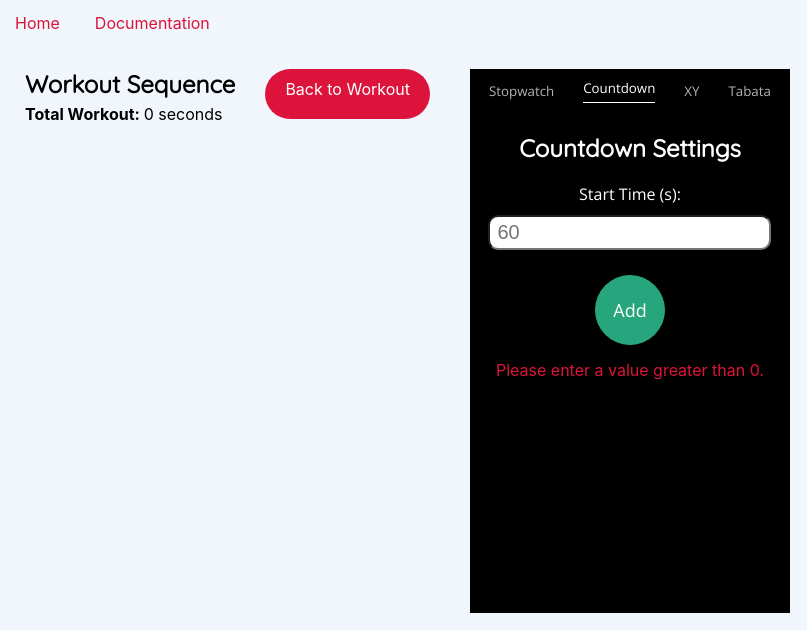
Scenario: Form › it has a XY form
This screenshot has width=807, height=630.
Click the button "XY": (692, 91) [684, 82, 699, 100]
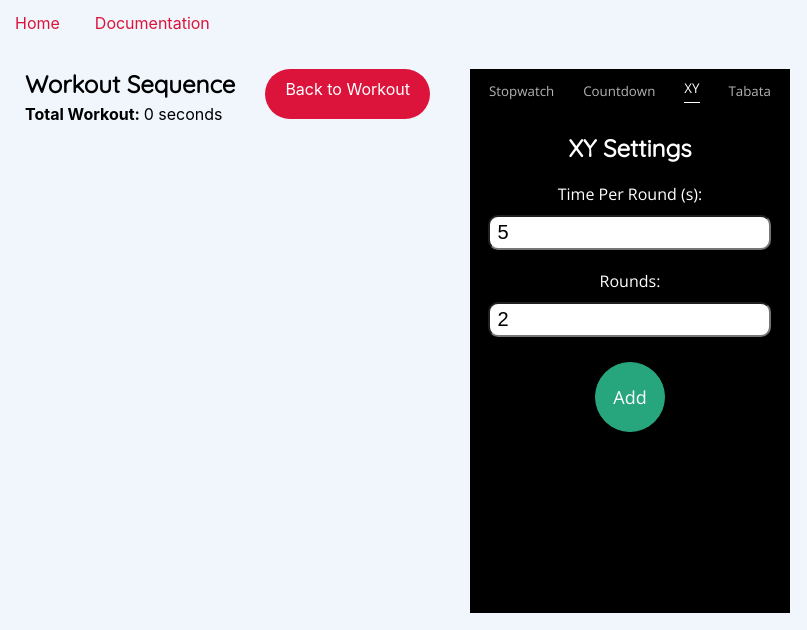
Check: the heading "XY Settings" is shown, box [568, 133, 691, 163]
Check: the text "Please enter a value greater than 0." is gone
